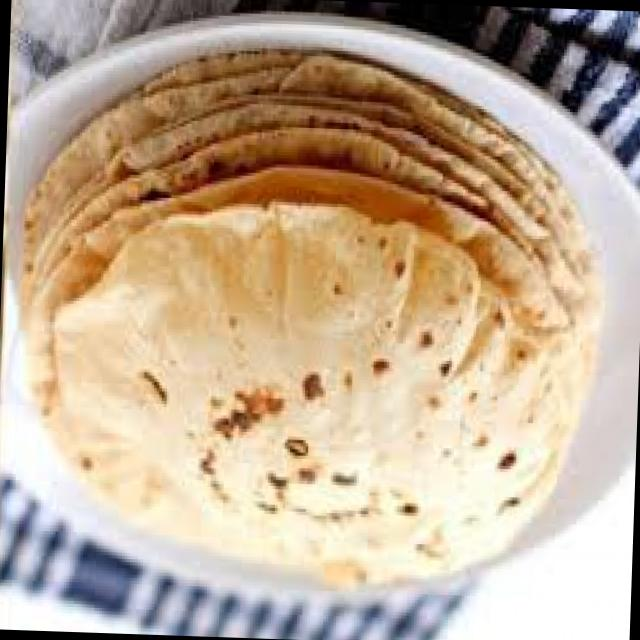roti: (2, 50, 609, 591)
